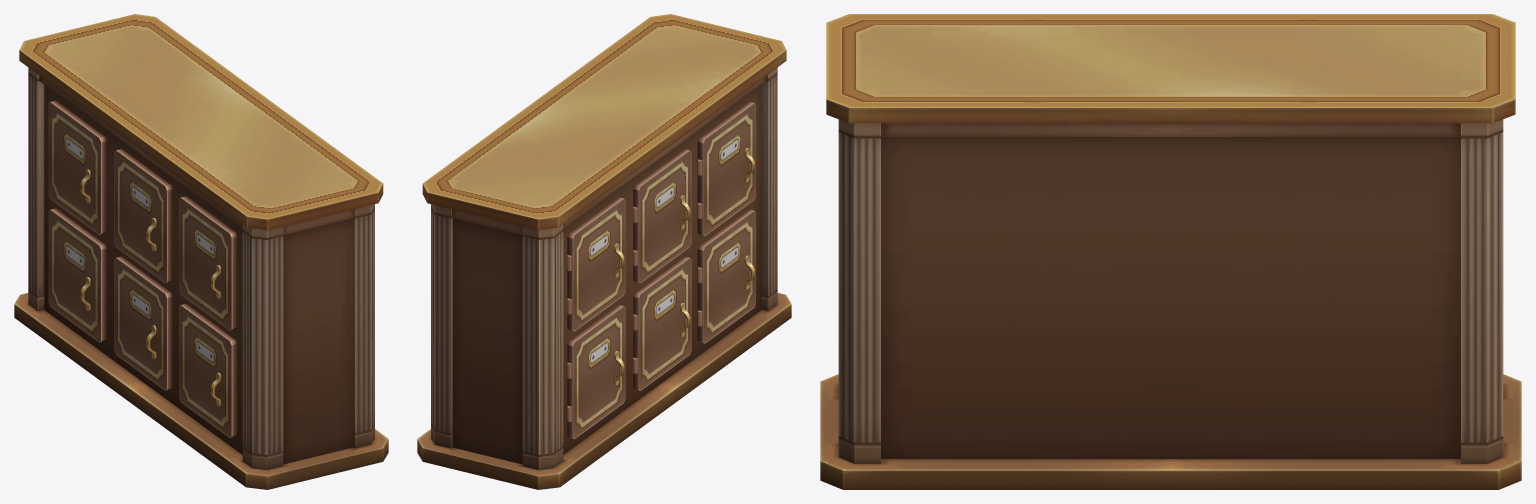
Rendered from my_trinityclassroom_01_cabinet_01.glb.
The picture shows the model from 3 angles, left to right: view 1: azimuth 30°, elevation 25°; view 2: azimuth 150°, elevation 25°; view 3: azimuth 270°, elevation 25°; orthographic projection. The views are drawn at different scales.
Visible parts, largest first — view 1: my_trinityclassroom_01_cabinet_01; view 2: my_trinityclassroom_01_cabinet_01; view 3: my_trinityclassroom_01_cabinet_01.
Part boxes in pixels (<box>): my_trinityclassroom_01_cabinet_01: <box>14,14,388,489</box>; my_trinityclassroom_01_cabinet_01: <box>417,14,791,489</box>; my_trinityclassroom_01_cabinet_01: <box>820,14,1521,489</box>.
Bounding box in the file's own units: 0.00381 × 0.00684 × 0.0115.
1 material, 1 textured.
